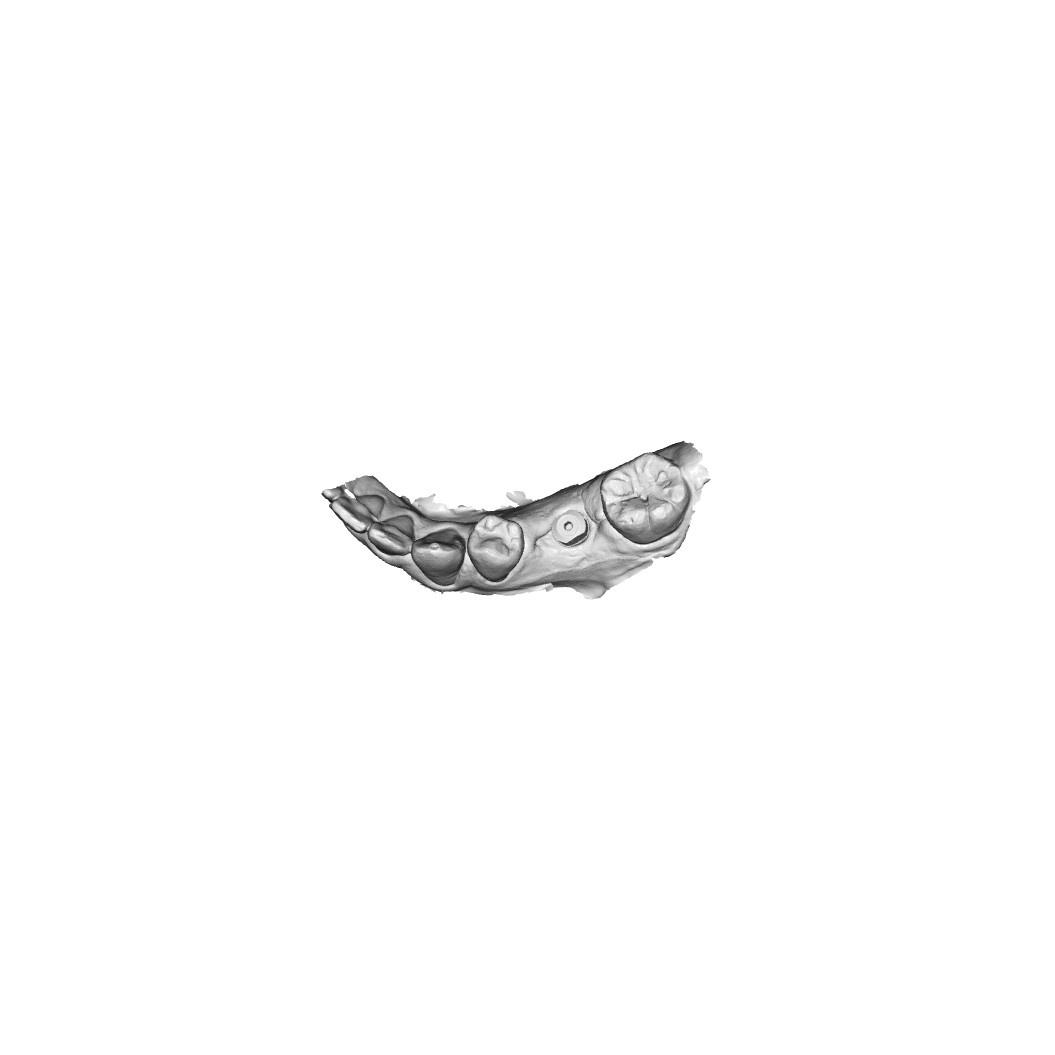canine: (412, 524, 467, 587)
implant: (548, 505, 592, 549)
incisor: (332, 492, 385, 532), (368, 519, 414, 556)
molar: (602, 450, 693, 546)
premolar: (467, 510, 527, 581)
